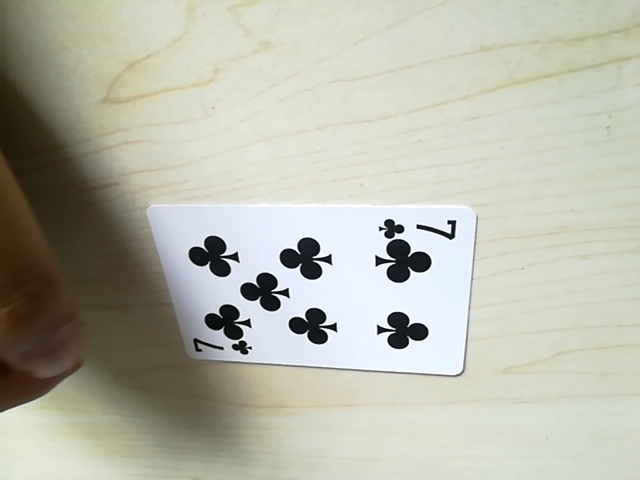mh 7: (385, 213, 458, 238), (189, 335, 252, 362)
